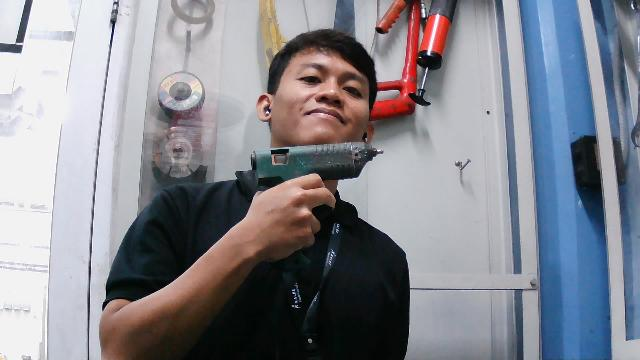gun_lem: (245, 139, 392, 262)
